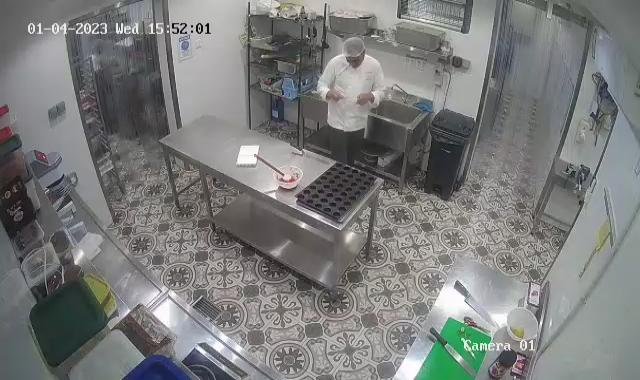hairnet: (343, 38, 366, 62)
